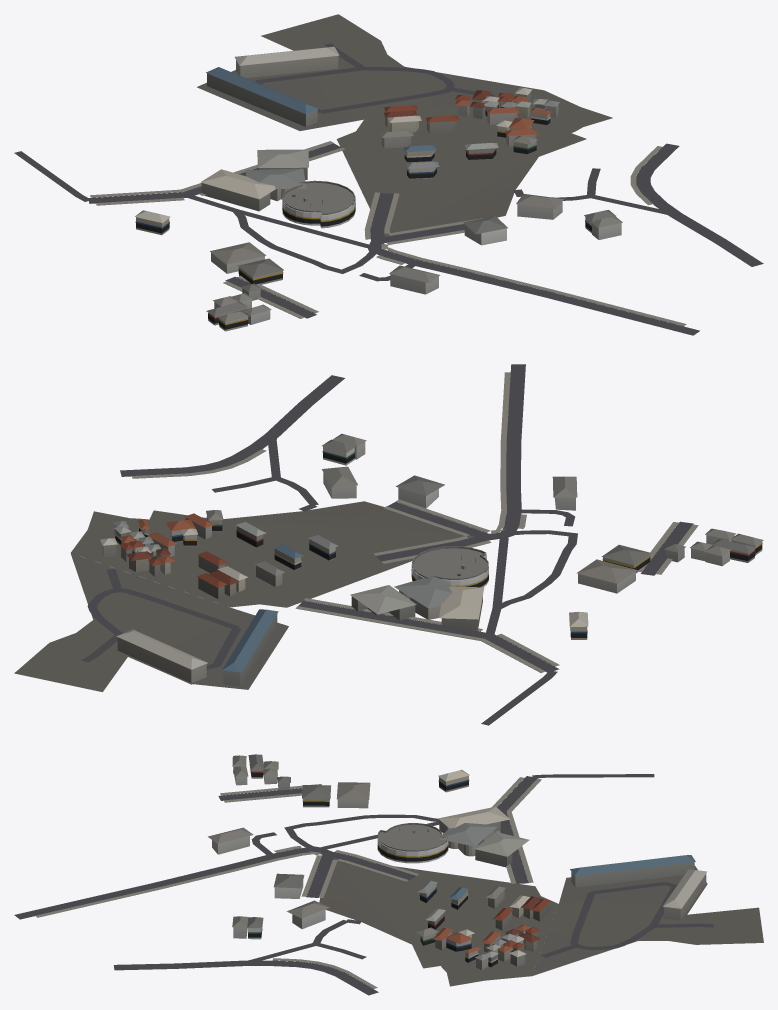
The picture shows the model from 3 angles, top to bottom: view 1: azimuth 30°, elevation 25°; view 2: azimuth 150°, elevation 25°; view 3: azimuth 270°, elevation 25°; orthographic projection. The views are drawn at different scales.
Visible parts, largest first — view 1: Landuse__r-6c-9, Buildings__r-6c-9-col, Roads_Minor__r-6c-9, Sidewalks__r-6c-9-col, Windows__r-6c-9; view 2: Landuse__r-6c-9, Buildings__r-6c-9-col, Roads_Minor__r-6c-9, Sidewalks__r-6c-9-col, Windows__r-6c-9; view 3: Landuse__r-6c-9, Buildings__r-6c-9-col, Roads_Minor__r-6c-9, Sidewalks__r-6c-9-col, Windows__r-6c-9.
Part boxes in pixels (x1=…): Landuse__r-6c-9: x1=197, y1=14, x2=612, y2=236; Buildings__r-6c-9-col: x1=135, y1=46, x2=622, y2=331; Roads_Minor__r-6c-9: x1=14, y1=43, x2=763, y2=335; Sidewalks__r-6c-9-col: x1=90, y1=141, x2=686, y2=326; Windows__r-6c-9: x1=135, y1=103, x2=591, y2=329; Landuse__r-6c-9: x1=14, y1=501, x2=474, y2=691; Buildings__r-6c-9-col: x1=100, y1=433, x2=763, y2=686; Roads_Minor__r-6c-9: x1=81, y1=364, x2=693, y2=725; Sidewalks__r-6c-9-col: x1=132, y1=372, x2=698, y2=672; Windows__r-6c-9: x1=115, y1=451, x2=762, y2=637; Landuse__r-6c-9: x1=319, y1=858, x2=763, y2=986; Buildings__r-6c-9-col: x1=208, y1=754, x2=707, y2=969; Roads_Minor__r-6c-9: x1=14, y1=774, x2=713, y2=995; Sidewalks__r-6c-9-col: x1=35, y1=777, x2=541, y2=988; Windows__r-6c-9: x1=233, y1=768, x2=523, y2=966.
Size of the model in its own units: 289 by 10 by 392.
